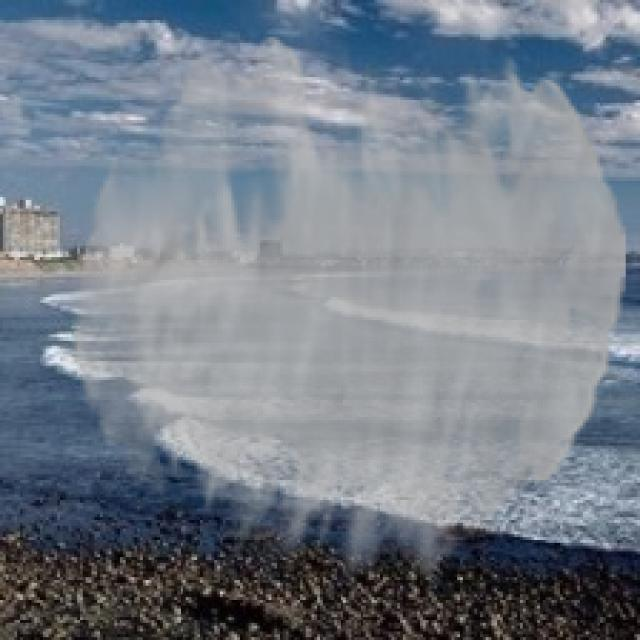Smoke: (71, 37, 626, 583)
